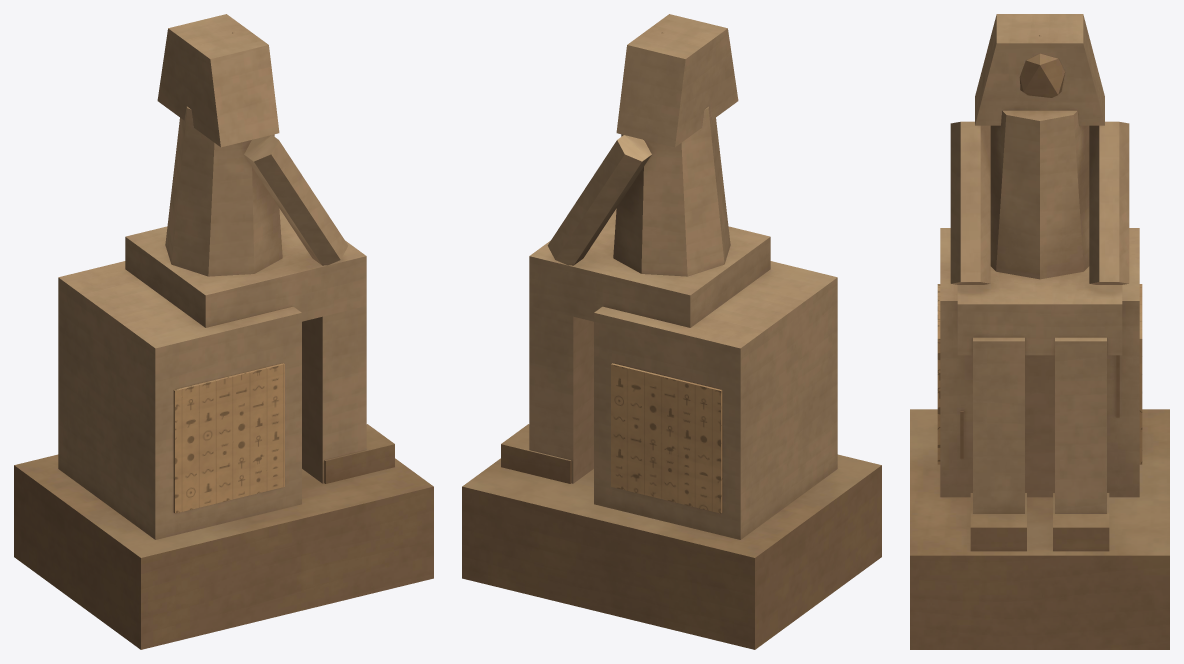
File: memnon_tex.glb
3 renders of one model, left to right at view 1: azimuth 30°, elevation 25°; view 2: azimuth 150°, elevation 25°; view 3: azimuth 270°, elevation 25°, orthographic. The views are drawn at different scales.
Visible parts, largest first — view 1: memnon; view 2: memnon; view 3: memnon.
Boxes of the visible parts, x1=… form: memnon: x1=14, y1=14, x2=433, y2=649; memnon: x1=462, y1=14, x2=881, y2=649; memnon: x1=910, y1=14, x2=1169, y2=649.
Size of the model in its own units: 10.4 by 18.1 by 7.8.
Materials: 3 (3 with a texture image).
